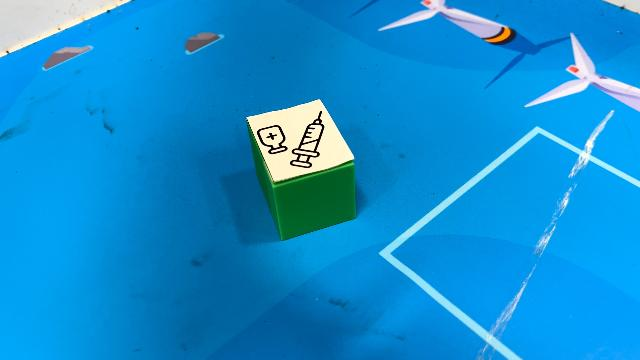syringe: (246, 99, 356, 241)
